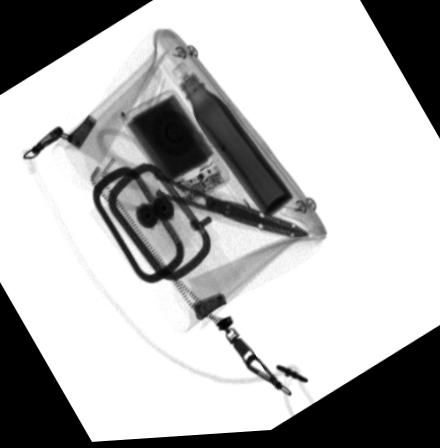Powerbank: (120, 93, 230, 214)
Scissors: (97, 126, 312, 247)
